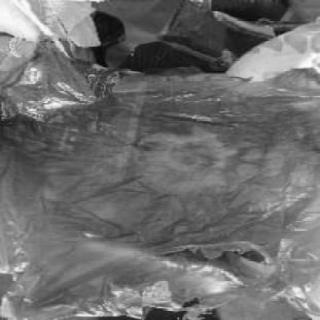objects: (0, 48, 319, 314)
